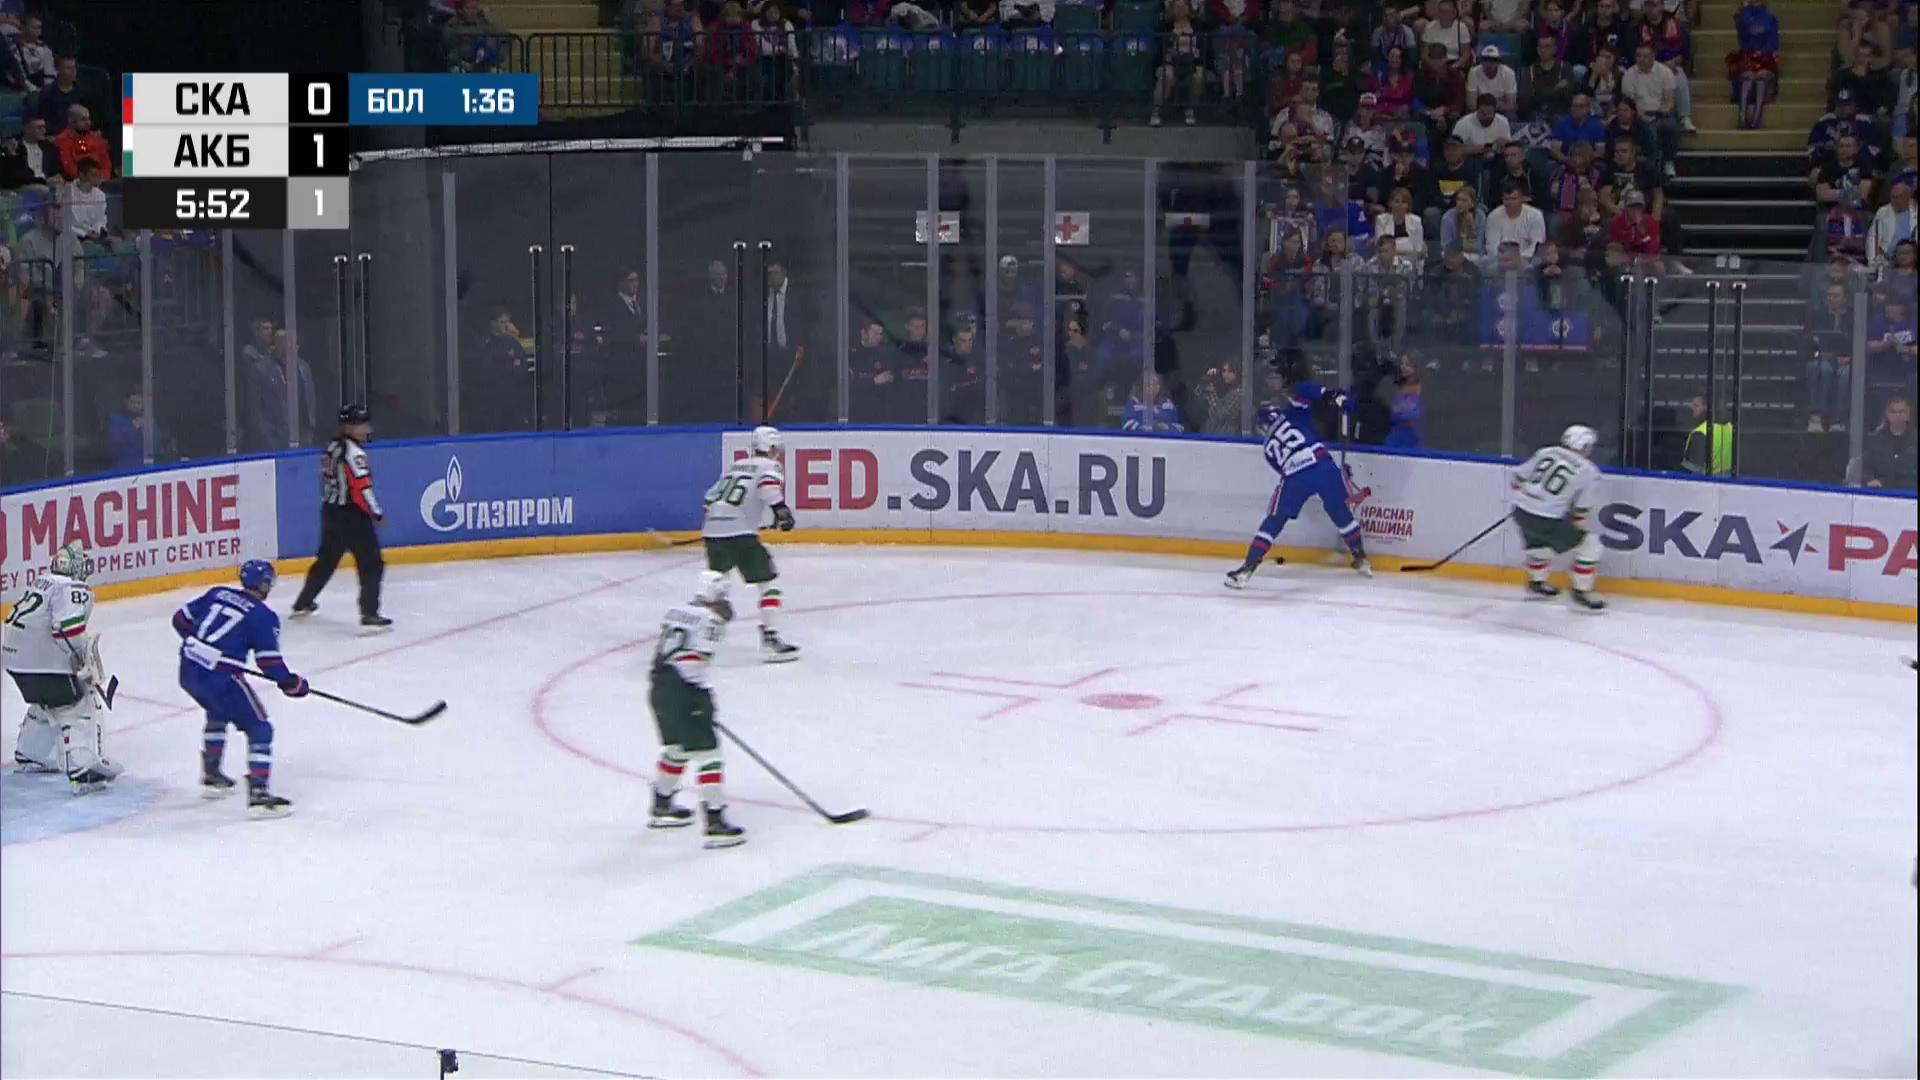ball: (1275, 559, 1286, 566)
